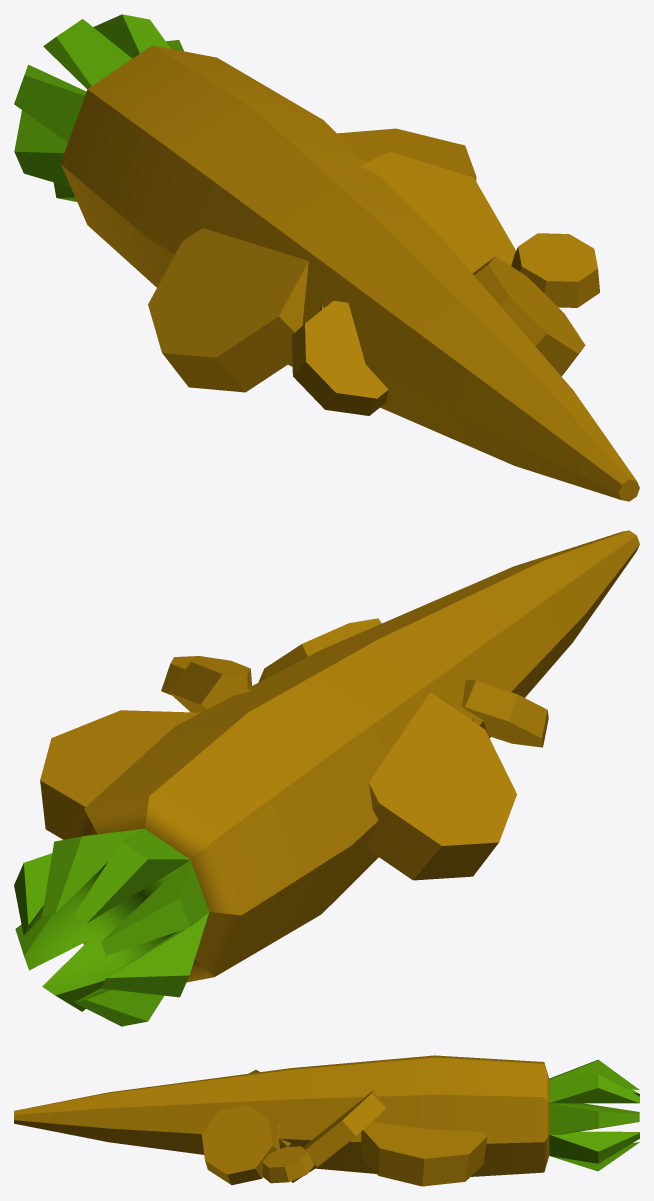
Rendered from Carrot 1.fbx.
3 renders of one model, top to bottom at view 1: azimuth 30°, elevation 25°; view 2: azimuth 150°, elevation 25°; view 3: azimuth 270°, elevation 25°, orthographic. The views are drawn at different scales.
Parts seen in each view (by area): view 1: Carrot2, Carrot1; view 2: Carrot2, Carrot1; view 3: Carrot2, Carrot1.
Boxes of the visible parts, x1,y1,x2,y2 form: Carrot2: (14, 14, 639, 501); Carrot1: (148, 128, 599, 415); Carrot2: (14, 530, 639, 1026); Carrot1: (40, 618, 548, 880); Carrot2: (14, 1055, 639, 1176); Carrot1: (201, 1070, 487, 1186).
Bounding box in the file's own units: 5.97 × 3.2 × 15.2.
